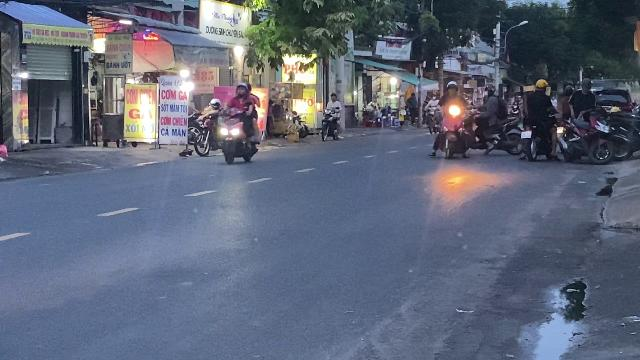helmet: (234, 82, 248, 96)
motorcyclist: (218, 81, 262, 165)
